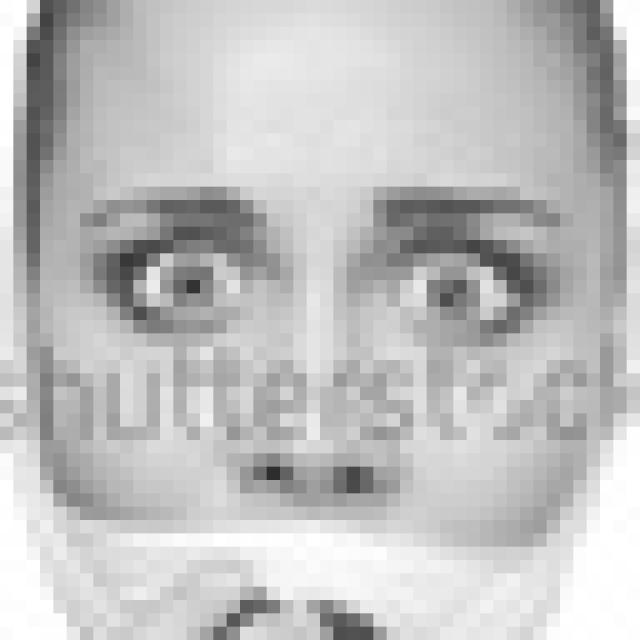fear: (84, 171, 570, 640)
